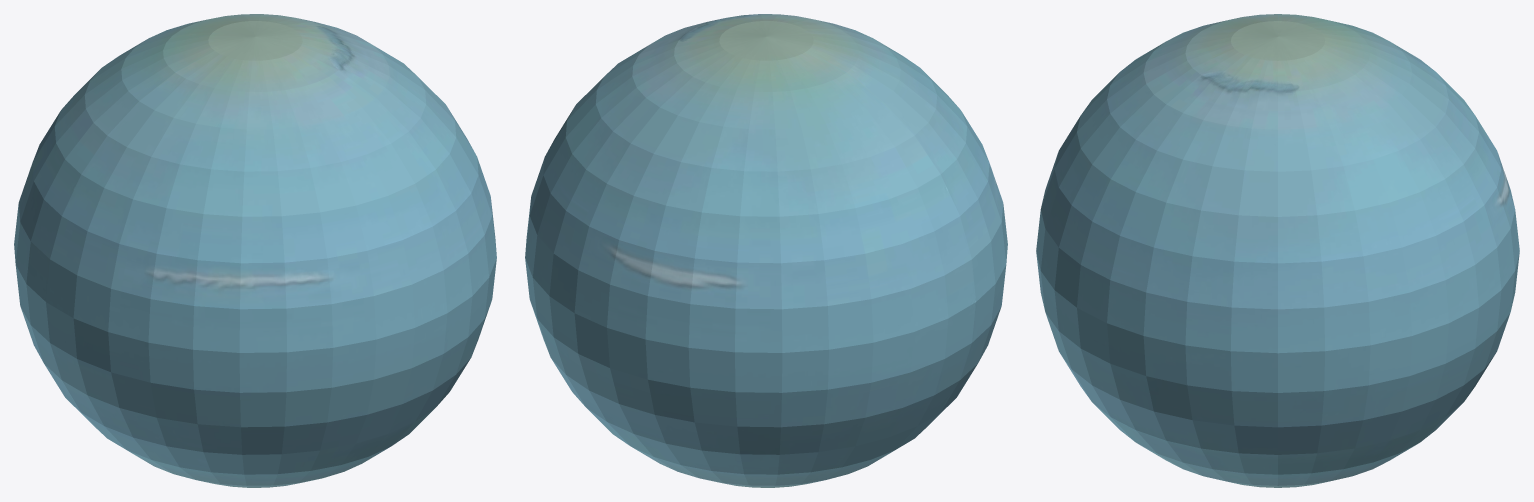
File: uranus.glb
3 renders of one model, left to right at view 1: azimuth 30°, elevation 25°; view 2: azimuth 150°, elevation 25°; view 3: azimuth 270°, elevation 25°, orthographic.
Visible parts, largest first — view 1: Sphere; view 2: Sphere; view 3: Sphere.
Part boxes in pixels (x1=…): Sphere: x1=14, y1=14, x2=496, y2=487; Sphere: x1=525, y1=14, x2=1007, y2=487; Sphere: x1=1036, y1=14, x2=1519, y2=487.
Bounding box in the file's own units: 5.11 × 4.99 × 5.11.
1 material, 1 textured.
